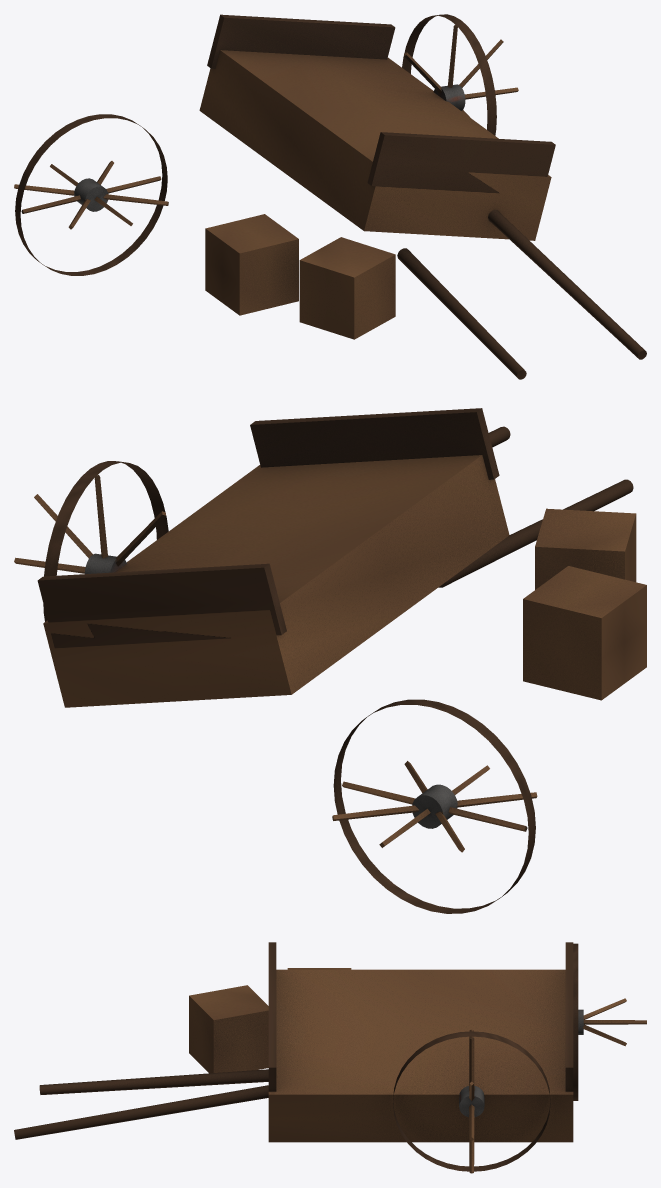
File: cenario_carroca_quebrada.glb
The picture shows the model from 3 angles, top to bottom: view 1: azimuth 30°, elevation 25°; view 2: azimuth 150°, elevation 25°; view 3: azimuth 270°, elevation 25°; orthographic projection. The views are drawn at different scales.
Parts seen in each view (by area): view 1: cenario_carroca_quebrada; view 2: cenario_carroca_quebrada; view 3: cenario_carroca_quebrada.
Boxes of the visible parts, left/top/right/bottom form: cenario_carroca_quebrada: left=14, top=14, right=646, bottom=379; cenario_carroca_quebrada: left=14, top=408, right=646, bottom=913; cenario_carroca_quebrada: left=14, top=942, right=646, bottom=1173.
Bounding box in the file's own units: 3.75 × 1.82 × 4.99.
Materials: 1 (1 with a texture image).
